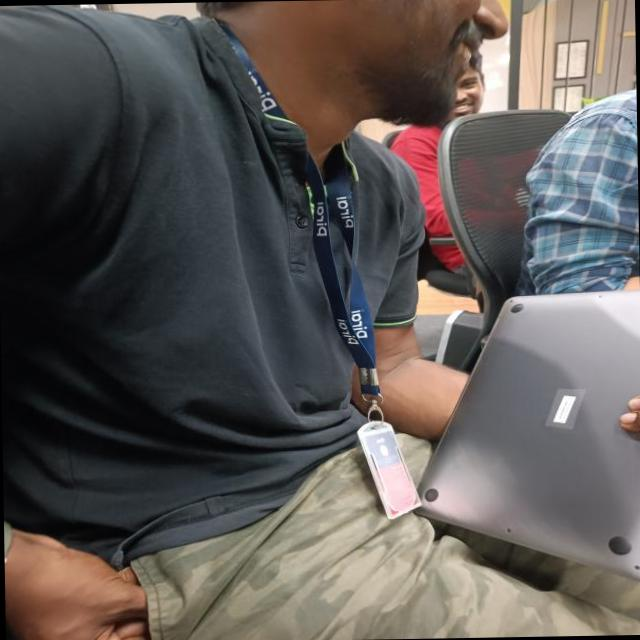id_card: (254, 41, 446, 518)
